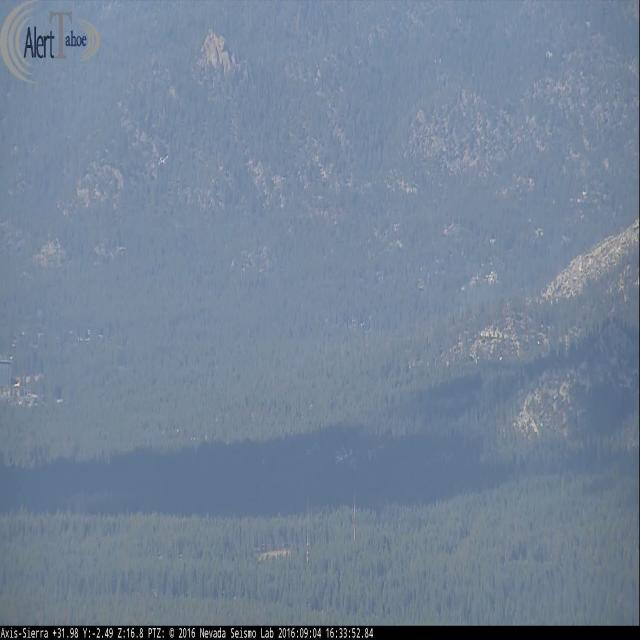smoke: (455, 279, 493, 327)
